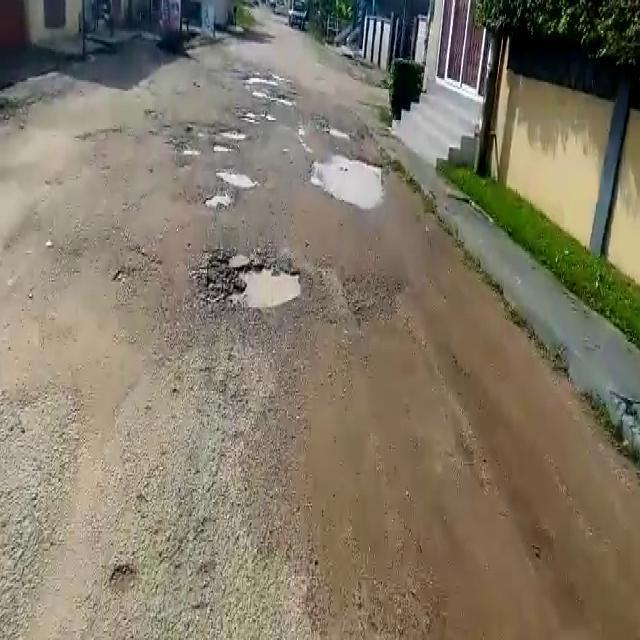pothole: (202, 253, 307, 313), (310, 150, 390, 210), (217, 167, 260, 190), (197, 190, 236, 212), (238, 109, 275, 124), (219, 126, 249, 139), (212, 145, 237, 156), (181, 146, 203, 157)
